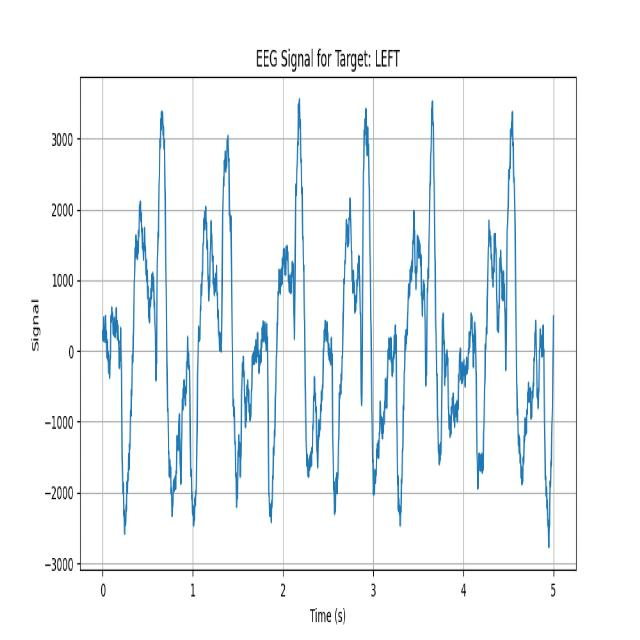LEFT: (457, 85, 538, 526), (250, 95, 325, 521), (325, 93, 393, 522), (120, 103, 188, 529), (393, 89, 457, 522), (188, 106, 250, 526)
